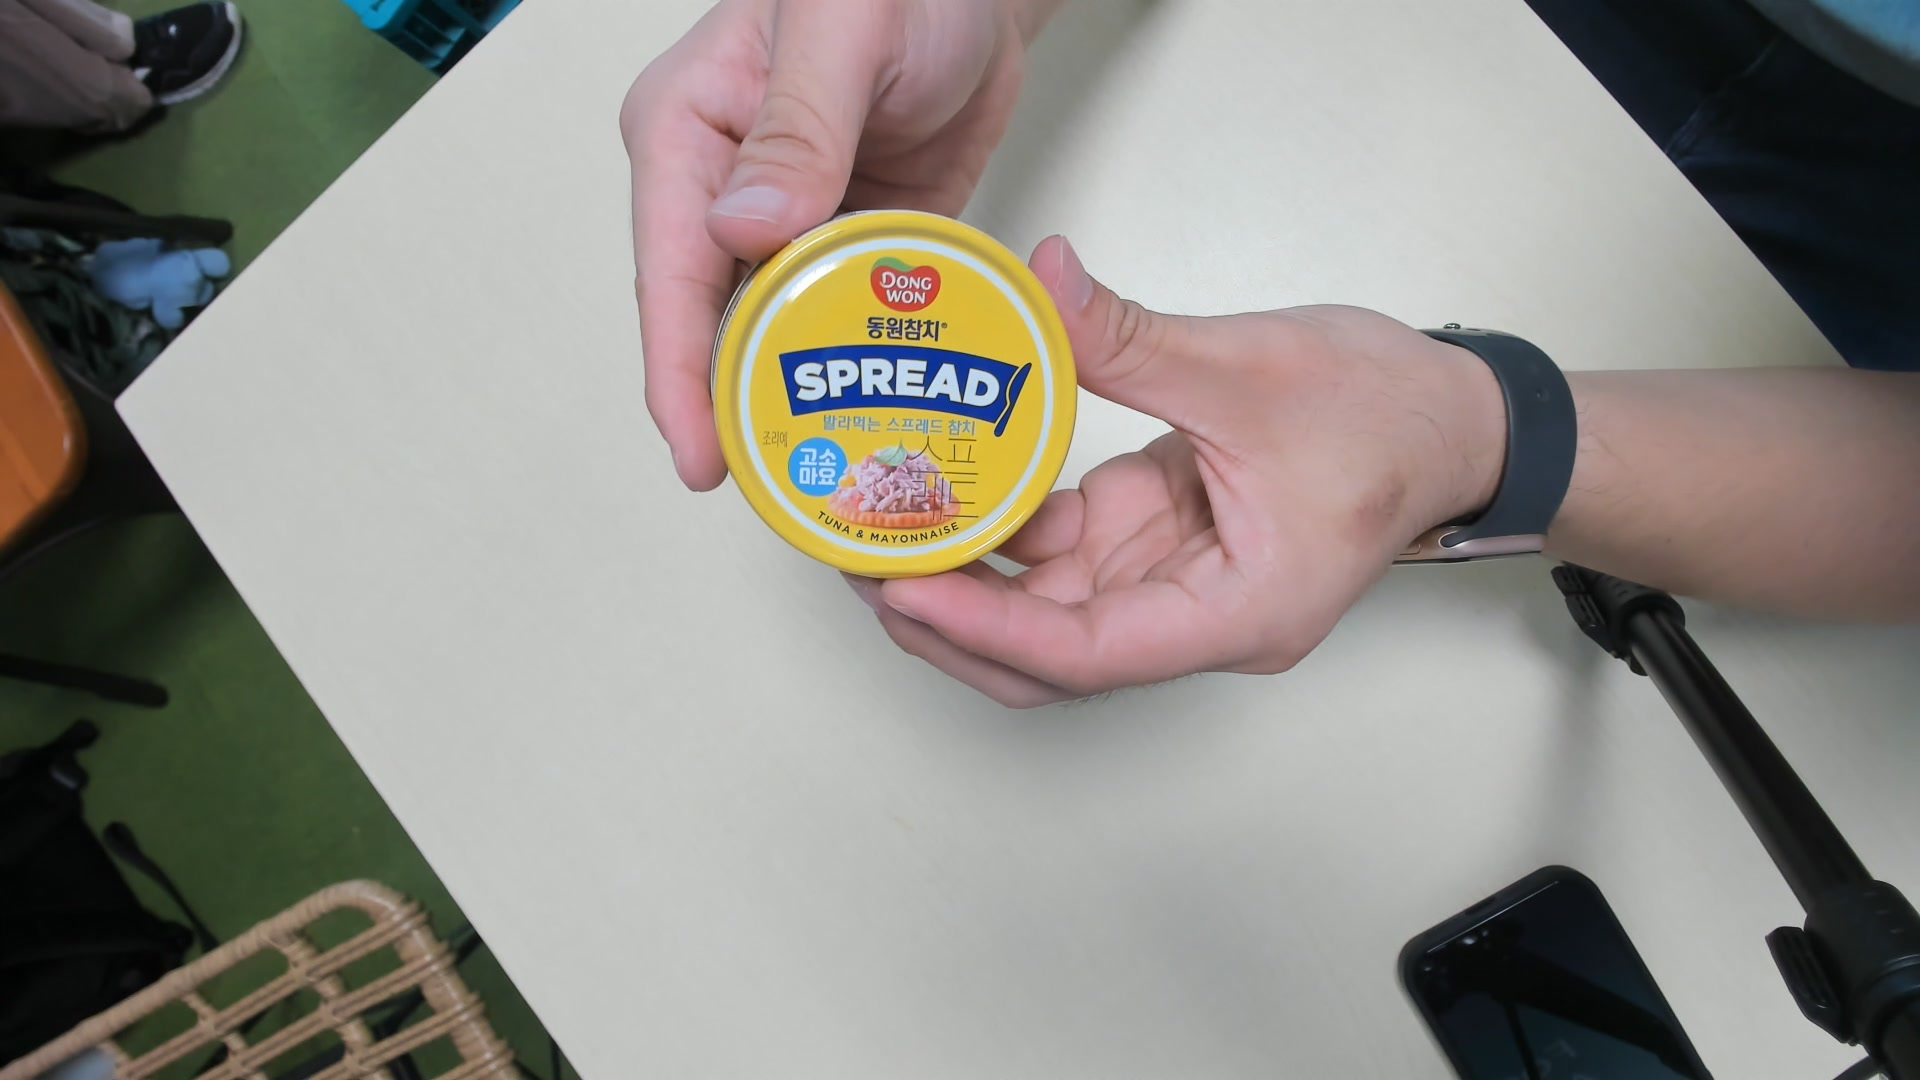OtherSauceDressing_0-99g_NonHalal_NonHealthy: (717, 219, 1077, 570)
